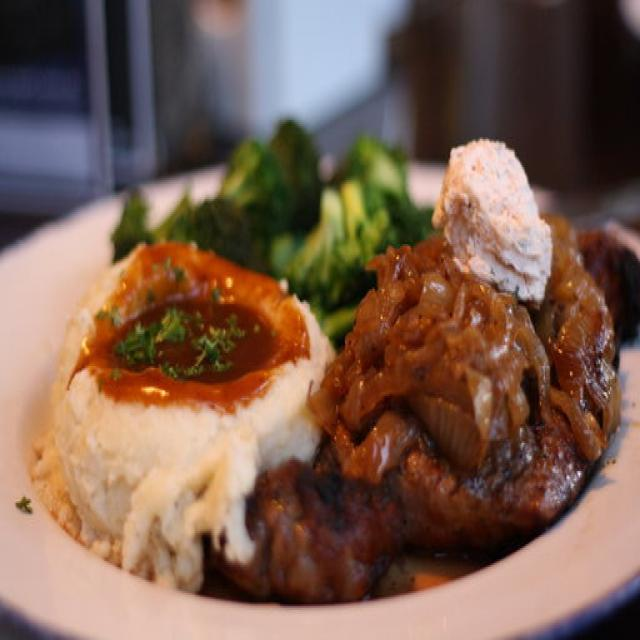Steak: (366, 150, 614, 533)
